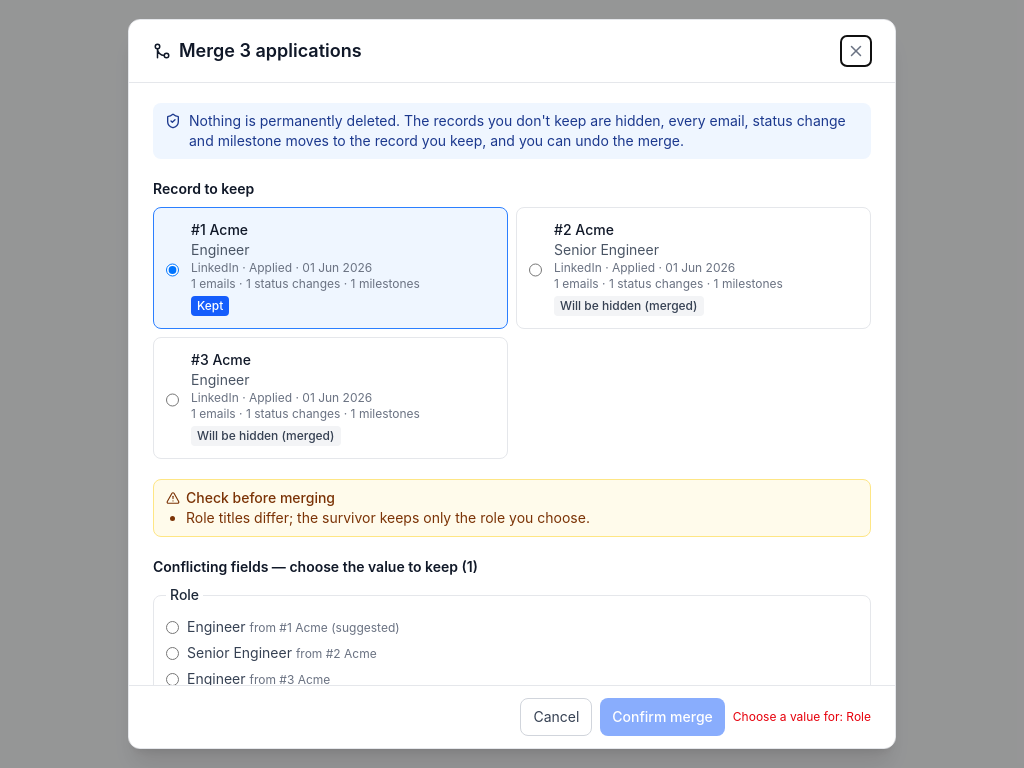
Test: MergeDialog › keeps Confirm disabled until every conflict is chosen
Expected: the element "Record to keep" is shown, top-left (153, 179), bottom-right (871, 459)
Expected: the button "Confirm merge" is disabled, top-left (600, 698), bottom-right (725, 736)
Step 1. Click the radio button labelled "Senior Engineer from #2 Acme" → (172, 653), box top-left (166, 647), bottom-right (179, 660)
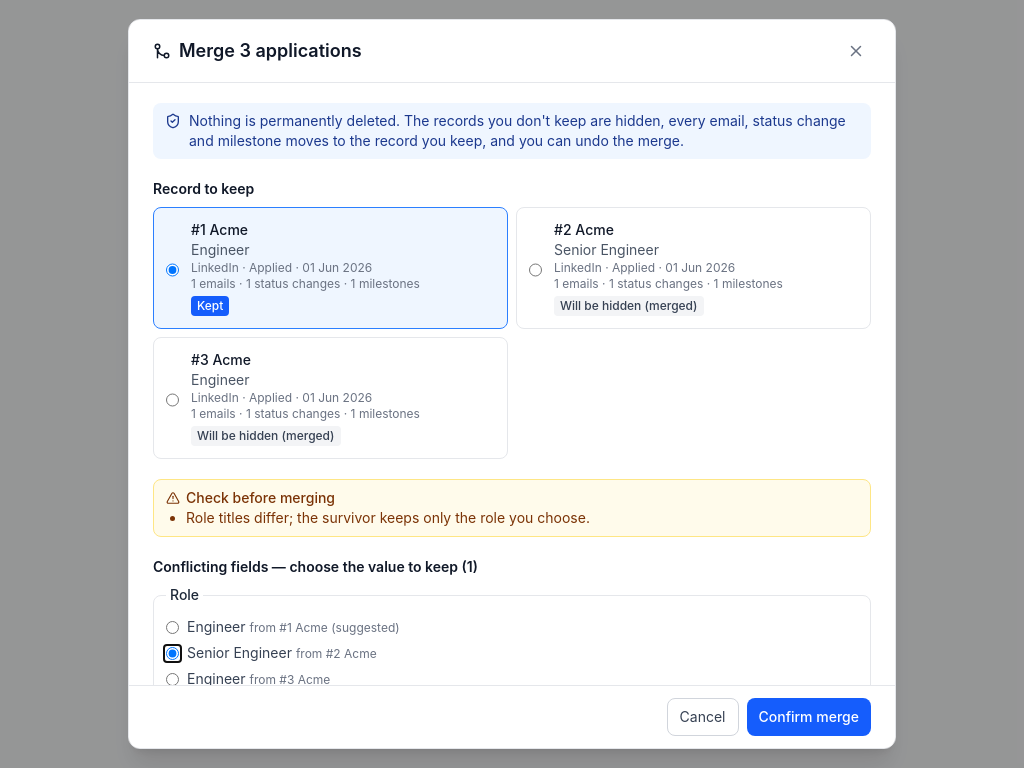
Expected: the button "Confirm merge" is enabled, top-left (746, 698), bottom-right (871, 736)
